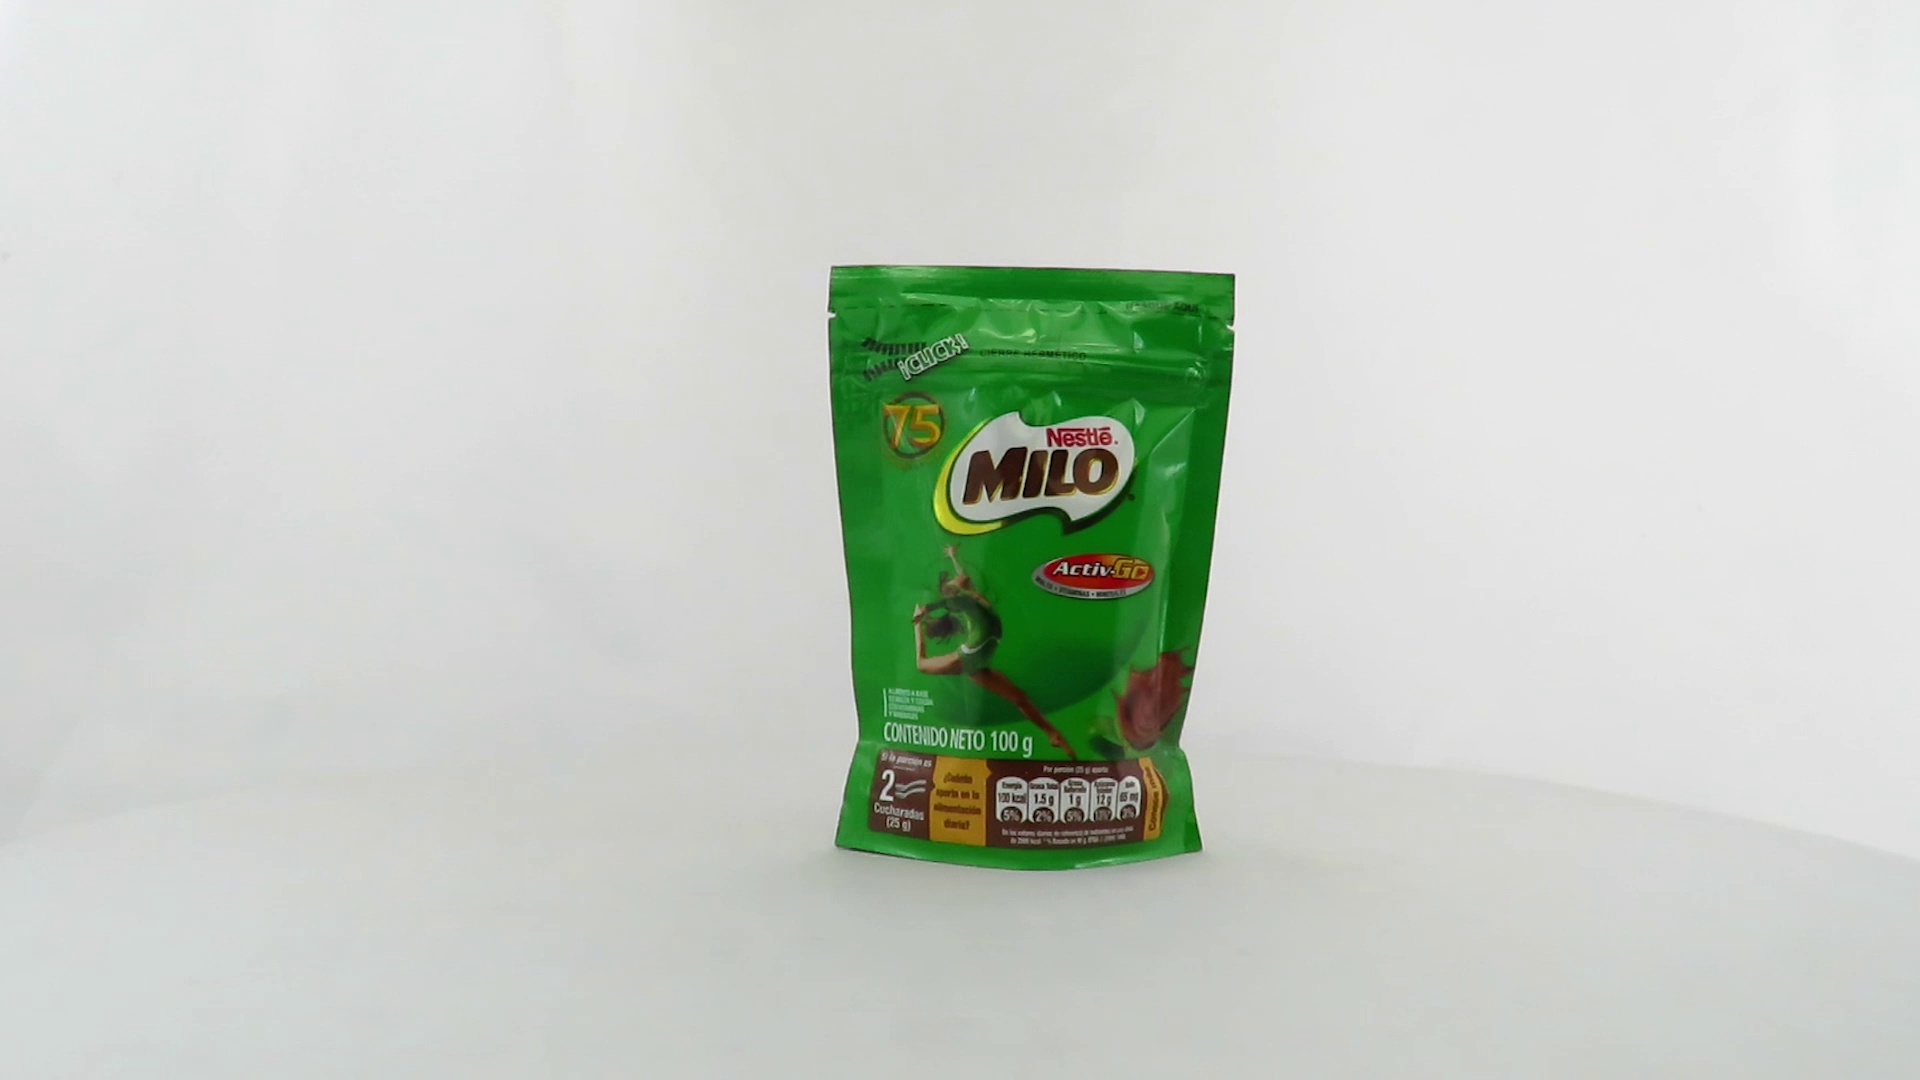COL0170203DYP10000: (822, 258, 1242, 877)
